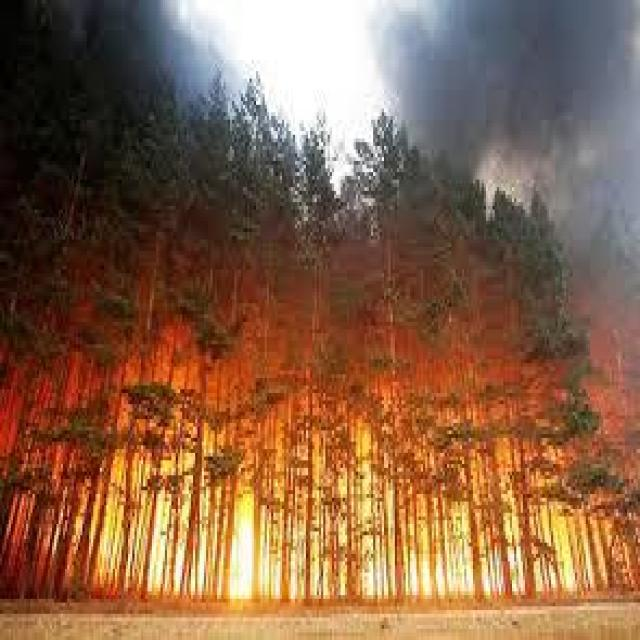fire: (98, 409, 606, 640)
smoke: (325, 17, 640, 219)
